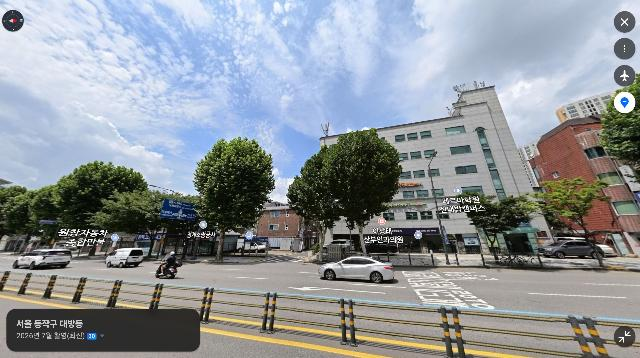other: (317, 128, 404, 262), (192, 136, 276, 263), (47, 160, 151, 259), (533, 176, 619, 267), (449, 192, 547, 268), (93, 189, 180, 261), (285, 146, 338, 263), (603, 83, 640, 181), (0, 185, 52, 254)
